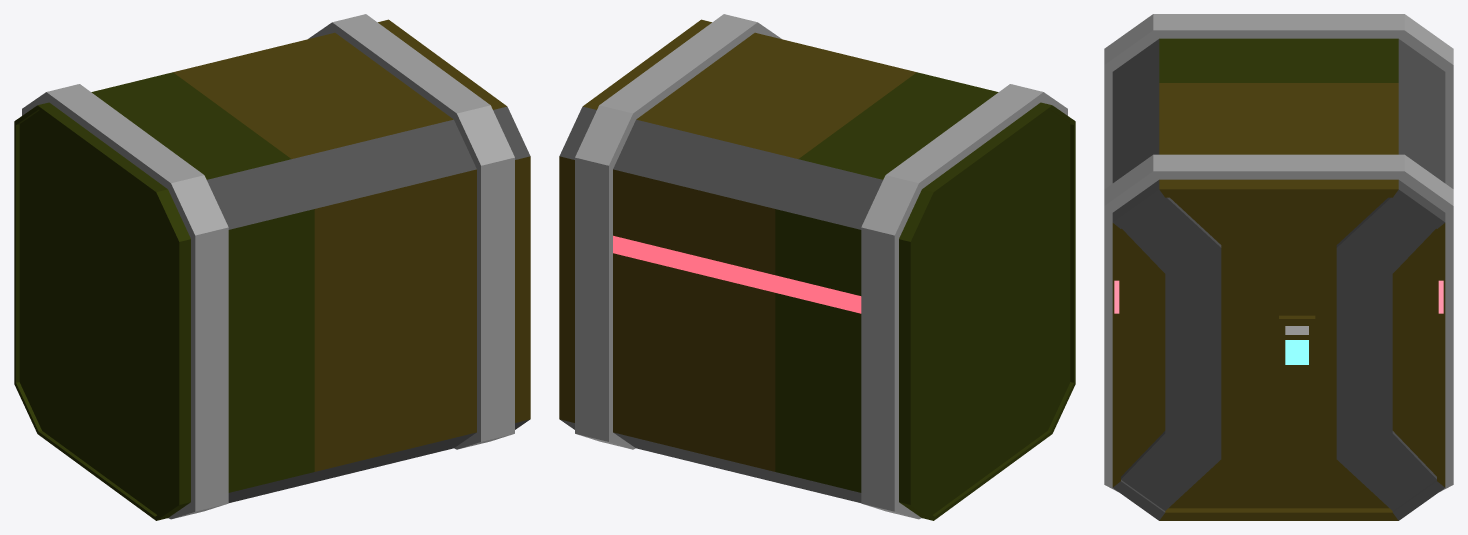
Rendered from Green Container.fbx.
3 renders of one model, left to right at view 1: azimuth 30°, elevation 25°; view 2: azimuth 150°, elevation 25°; view 3: azimuth 270°, elevation 25°, orthographic.
Visible parts, largest first — view 1: Cube.004; view 2: Cube.004; view 3: Cube.004.
Boxes of the visible parts, bbox=[...] form: Cube.004: bbox=[14, 14, 530, 520]; Cube.004: bbox=[559, 14, 1075, 520]; Cube.004: bbox=[1104, 14, 1453, 520].
Size of the model in its own units: 300 by 275 by 256.
